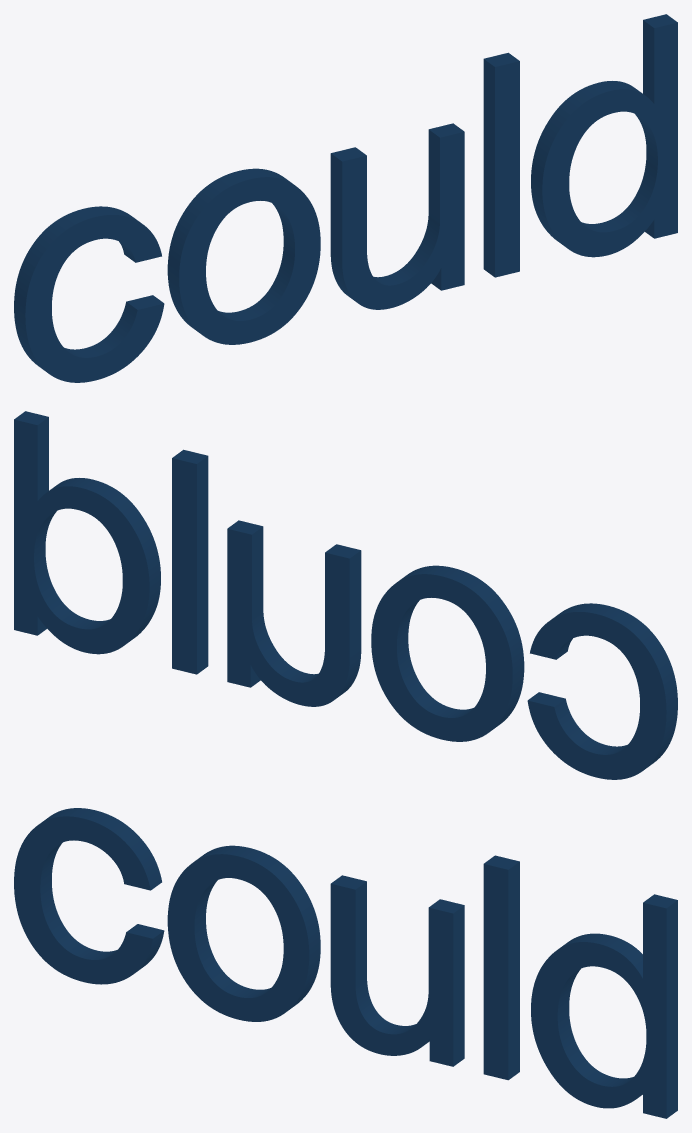
Rendered from could.glb.
3 renders of one model, top to bottom at view 1: azimuth 30°, elevation 25°; view 2: azimuth 150°, elevation 25°; view 3: azimuth 330°, elevation 25°, orthographic.
Parts seen in each view (by area): view 1: mesh_0; view 2: mesh_0; view 3: mesh_0.
Part boxes in pixels (<box>): mesh_0: <box>14,14,677,382</box>; mesh_0: <box>14,411,677,779</box>; mesh_0: <box>14,808,677,1118</box>.
Bounding box in the file's own units: 3.29 × 1.04 × 0.0999.
